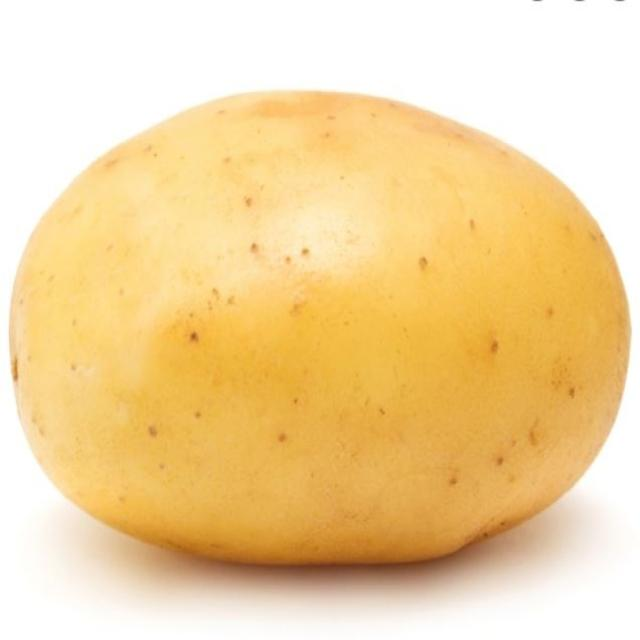potato: (10, 92, 631, 565)
